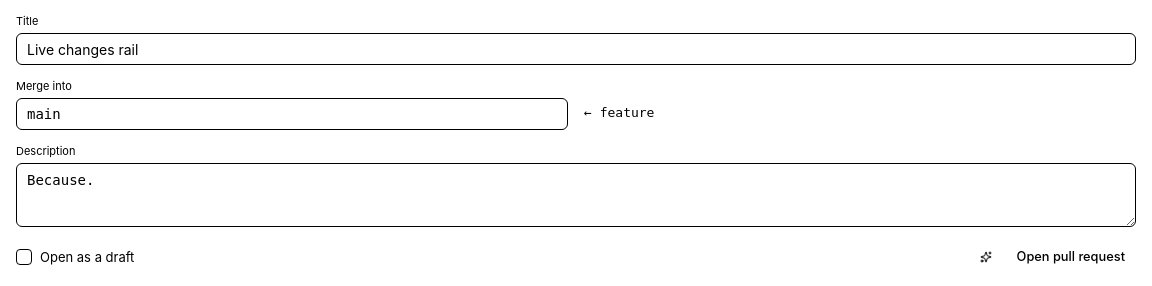
Scenario: PullRequestForm — before a tool is picked to draft with › explains the door in the words the commit box uses for it
Focus the button named "Draft a description…" at (986, 257), box [974,245,998,269]
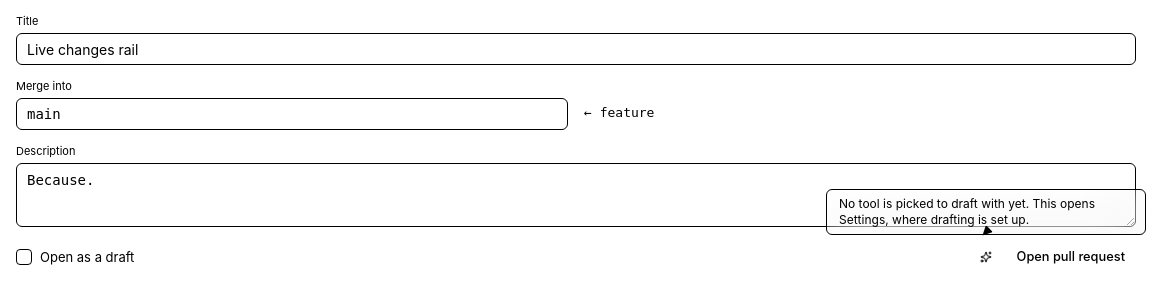
Now the tooltip shows "No tool is picked to draft with yet. This opens Settings, where drafting is set up.", box [839,196,1095,227]
